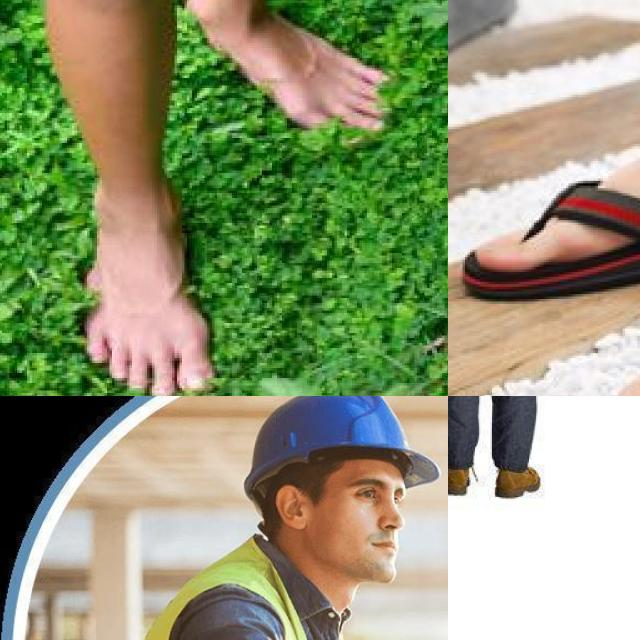Barefoots: (59, 154, 218, 396), (188, 0, 424, 157)
No_Ear-Protection: (275, 484, 310, 530)
No_Glasses: (344, 473, 414, 510)
Sandals: (468, 144, 640, 292)
face_nomask: (323, 460, 414, 592)
head_helmet: (241, 396, 441, 488)
person: (96, 396, 448, 640), (448, 396, 571, 495)
shoes: (488, 462, 543, 506), (448, 464, 476, 499)
vest: (118, 542, 388, 640)
